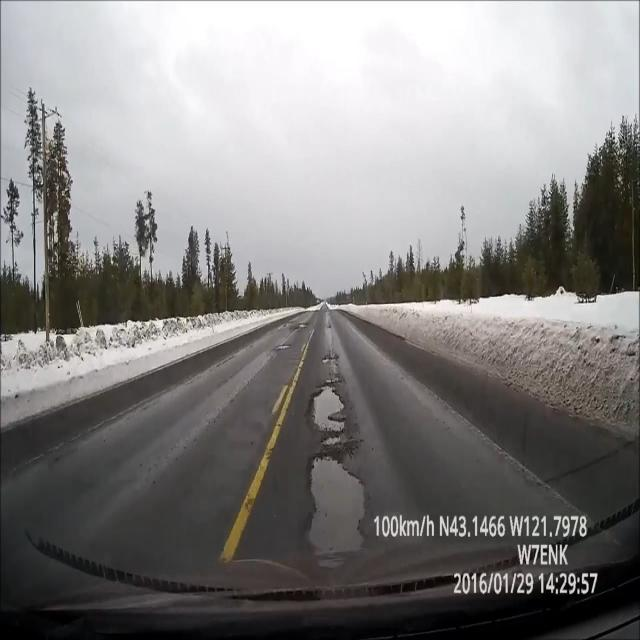Pothole: (302, 455, 372, 548), (306, 375, 354, 445)
